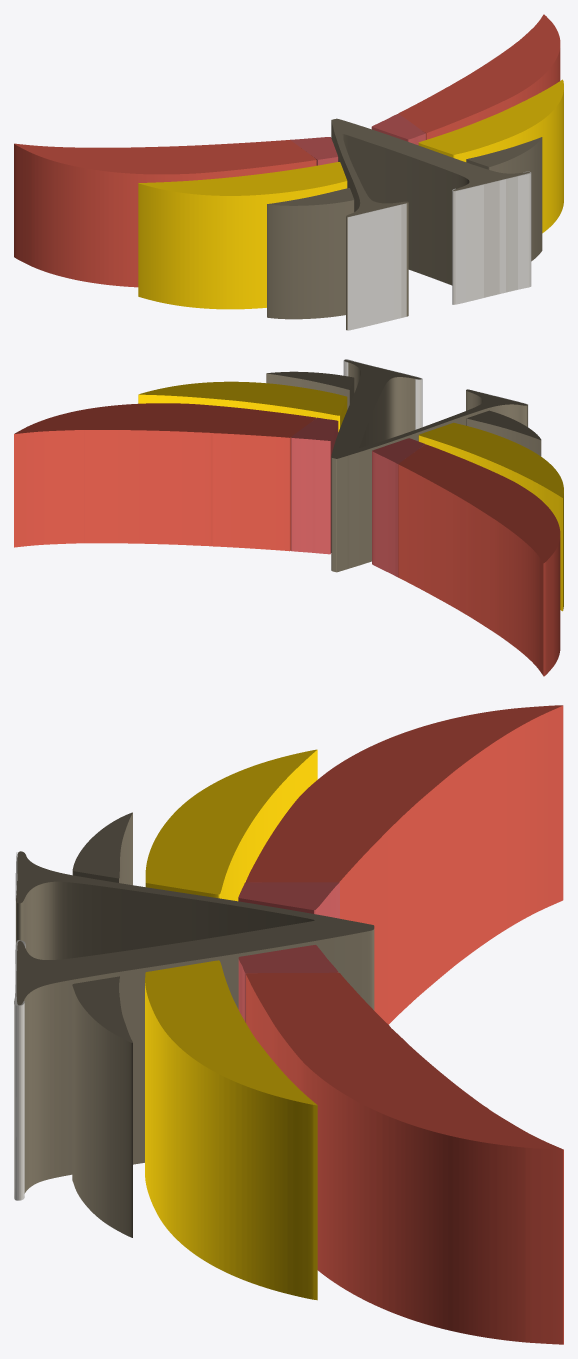
Rendered from aft.glb.
The picture shows the model from 3 angles, top to bottom: view 1: azimuth 30°, elevation 25°; view 2: azimuth 150°, elevation 25°; view 3: azimuth 270°, elevation 25°; orthographic projection. The views are drawn at different scales.
Visible parts, largest first — view 1: Node1, Node3, Node5, Node7, Node10, Node2, Node4, Node11, Node6, Node8, Node9; view 2: Node2, Node1, Node5, Node3, Node8, Node4, Node9, Node6, Node7, Node10; view 3: Node2, Node1, Node4, Node5, Node3, Node6, Node7, Node9, Node8, Node10.
Part boxes in pixels (box(x1,y1,x2,y2)): Node1: box(14, 140, 316, 287); Node3: box(138, 162, 347, 309); Node5: box(331, 118, 529, 330); Node7: box(267, 188, 354, 319); Node10: box(452, 171, 531, 304); Node2: box(398, 14, 560, 139); Node4: box(418, 79, 563, 233); Node11: box(347, 203, 406, 330); Node6: box(466, 137, 542, 261); Node8: box(371, 114, 425, 145); Node9: box(290, 137, 338, 165); Node2: box(14, 403, 315, 551); Node1: box(398, 444, 560, 676); Node5: box(331, 360, 527, 572); Node3: box(418, 422, 563, 611); Node8: box(291, 417, 338, 554); Node4: box(138, 381, 347, 431); Node9: box(372, 438, 425, 577); Node6: box(266, 371, 354, 409); Node7: box(466, 410, 541, 456); Node10: box(343, 359, 422, 429); Node2: box(246, 972, 563, 1344); Node1: box(246, 705, 563, 1024); Node4: box(145, 960, 317, 1300); Node5: box(16, 851, 374, 1199); Node3: box(145, 749, 317, 901); Node6: box(72, 976, 132, 1237); Node7: box(72, 812, 132, 885); Node9: box(238, 882, 339, 918); Node8: box(238, 945, 338, 1022); Node10: box(14, 940, 25, 1200).
Bounding box in the file's own units: 3.85 × 0.7874 × 2.01.
